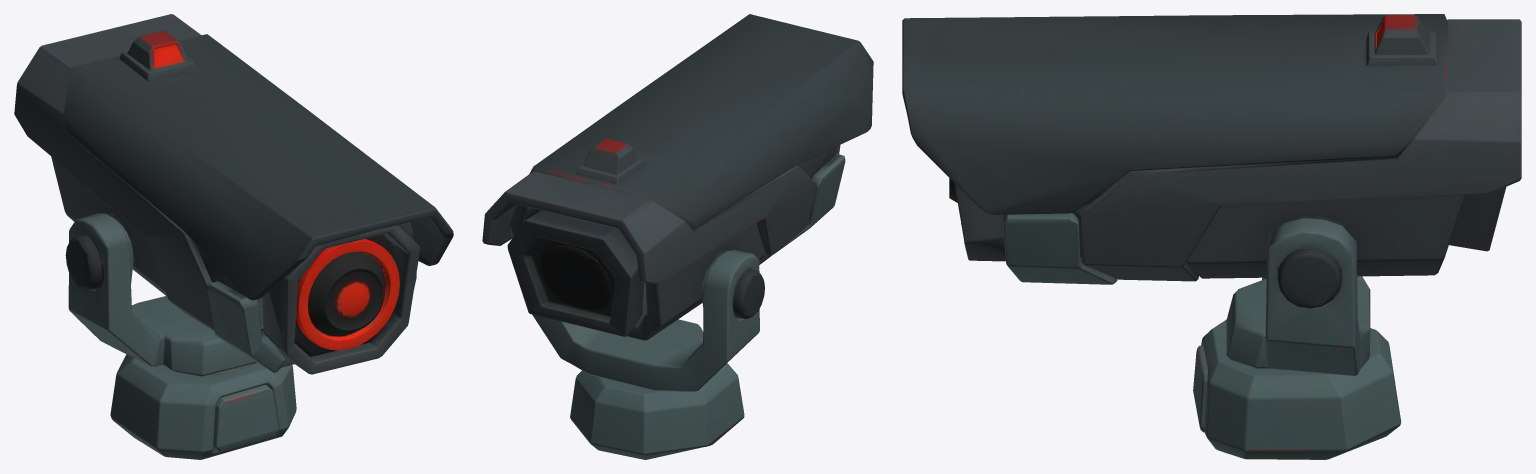
Rendered from camera-head.glb.
The picture shows the model from 3 angles, left to right: view 1: azimuth 30°, elevation 25°; view 2: azimuth 150°, elevation 25°; view 3: azimuth 270°, elevation 25°; orthographic projection. The views are drawn at different scales.
Parts seen in each view (by area): view 1: tripo_node_614fe244-3d03-4c4c-919b-43f053a2189b; view 2: tripo_node_614fe244-3d03-4c4c-919b-43f053a2189b; view 3: tripo_node_614fe244-3d03-4c4c-919b-43f053a2189b.
Boxes of the visible parts, x1,y1,x2,y2 form: tripo_node_614fe244-3d03-4c4c-919b-43f053a2189b: (14,14,453,459); tripo_node_614fe244-3d03-4c4c-919b-43f053a2189b: (482,14,873,459); tripo_node_614fe244-3d03-4c4c-919b-43f053a2189b: (902,14,1521,459).
Size of the model in its own units: 0.5151 by 0.7192 by 0.9995.
Materials: 1 (1 with a texture image).
